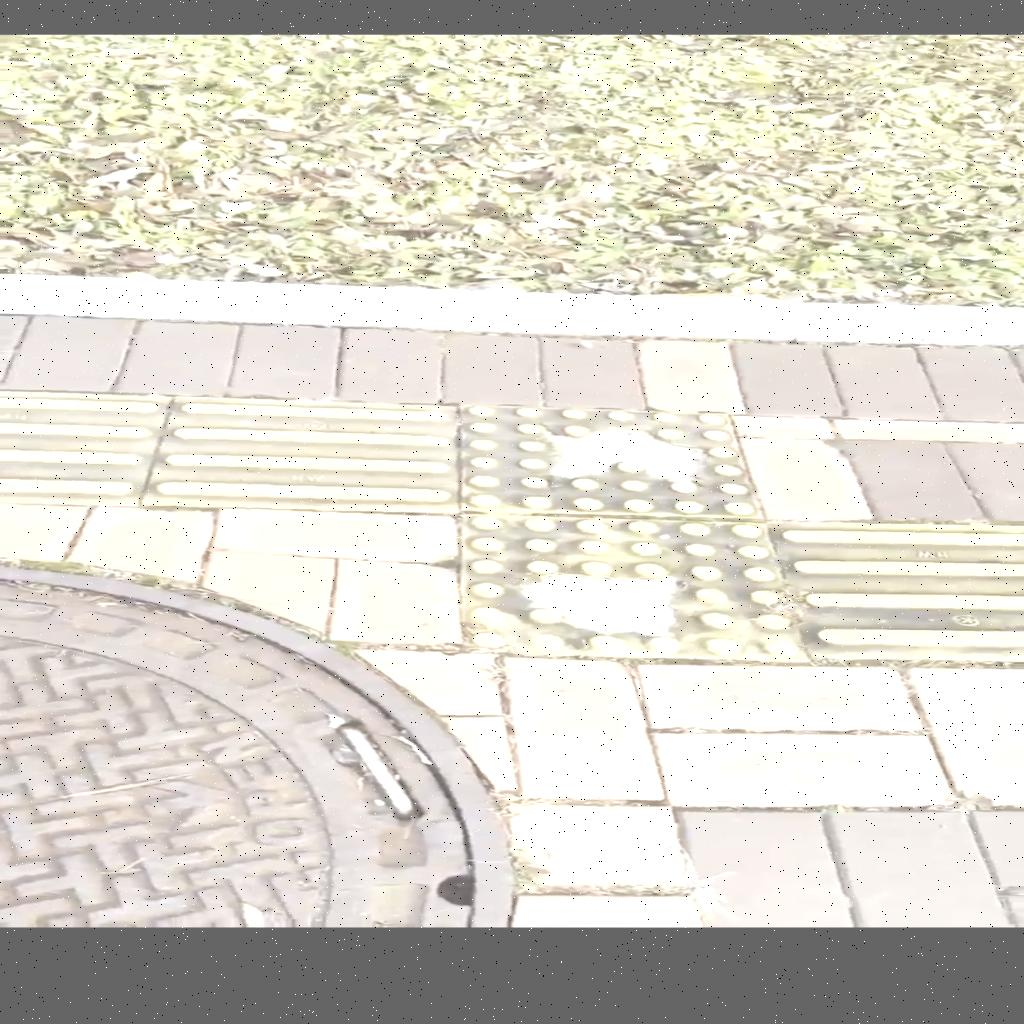Stop block broken: (459, 515, 810, 661), (459, 406, 765, 520)
Straight block normal: (144, 396, 460, 516)
